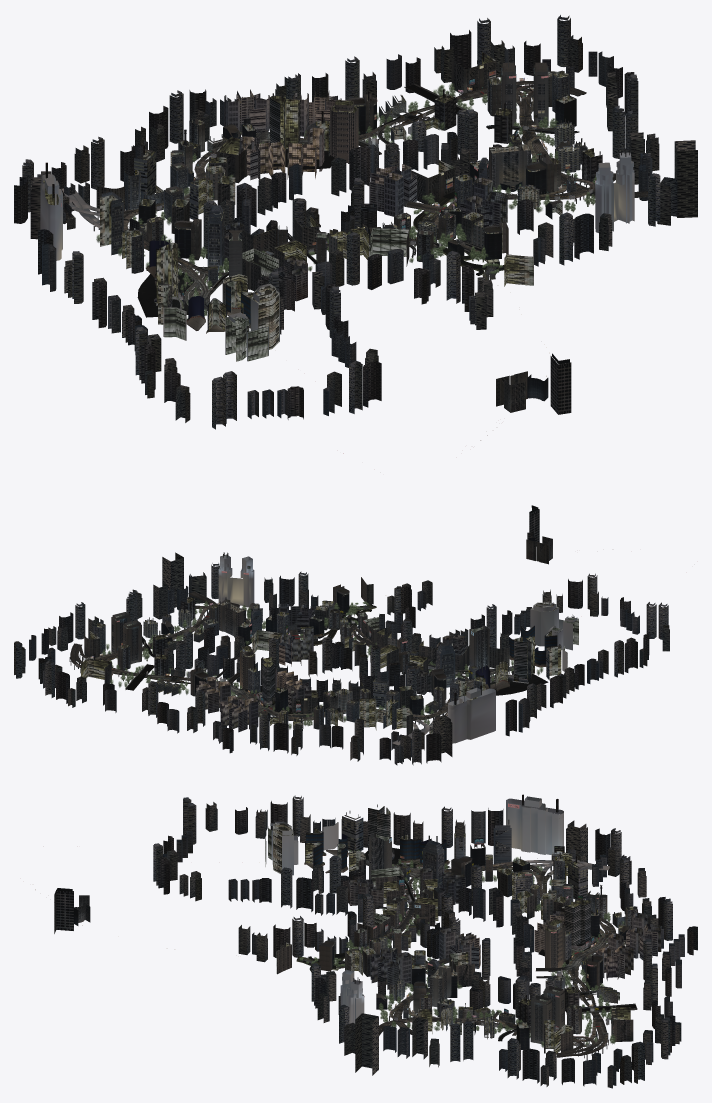
The model's file is stage_eastern_bay.glb.
The picture shows the model from 3 angles, top to bottom: view 1: azimuth 30°, elevation 25°; view 2: azimuth 150°, elevation 25°; view 3: azimuth 270°, elevation 25°; orthographic projection. The views are drawn at different scales.
Visible parts, largest first — view 1: backdrop_grp_007_mdl_005_sub_000, backdrop_grp_007_mdl_004_sub_000, backdrop_grp_006_mdl_003_sub_000, backdrop_grp_007_mdl_009_sub_000, backdrop_grp_006_mdl_007_sub_000, backdrop_grp_014_mdl_000_sub_000, backdrop_grp_006_mdl_006_sub_000, backdrop_grp_006_mdl_002_sub_000, backdrop_grp_006_mdl_011_sub_000, backdrop_grp_006_mdl_005_sub_000, backdrop_grp_018_mdl_000_sub_000, backdrop_grp_005_mdl_001_sub_000 (+40 smaller); view 2: backdrop_grp_007_mdl_004_sub_000, backdrop_grp_009_mdl_000_sub_000, backdrop_grp_006_mdl_003_sub_000, backdrop_grp_005_mdl_000_sub_000, backdrop_grp_007_mdl_009_sub_000, backdrop_grp_007_mdl_000_sub_000, backdrop_grp_006_mdl_010_sub_000, backdrop_grp_007_mdl_005_sub_000, backdrop_grp_006_mdl_007_sub_000, backdrop_grp_006_mdl_000_sub_000, backdrop_grp_006_mdl_009_sub_000, backdrop_grp_015_mdl_000_sub_000 (+32 smaller); view 3: backdrop_grp_006_mdl_003_sub_000, backdrop_grp_009_mdl_000_sub_000, backdrop_grp_007_mdl_004_sub_000, backdrop_grp_007_mdl_003_sub_000, backdrop_grp_006_mdl_000_sub_000, backdrop_grp_005_mdl_000_sub_000, backdrop_grp_007_mdl_009_sub_000, backdrop_grp_006_mdl_002_sub_000, backdrop_grp_006_mdl_007_sub_000, backdrop_grp_007_mdl_005_sub_000, backdrop_grp_007_mdl_001_sub_000, backdrop_grp_006_mdl_008_sub_000 (+37 smaller).
Part boxes in pixels (x1,y1,x2,y2): backdrop_grp_007_mdl_005_sub_000: (247,349,381,419); backdrop_grp_007_mdl_004_sub_000: (14,136,104,239); backdrop_grp_006_mdl_003_sub_000: (629,134,697,226); backdrop_grp_007_mdl_009_sub_000: (135,327,236,429); backdrop_grp_006_mdl_007_sub_000: (351,121,470,186); backdrop_grp_014_mdl_000_sub_000: (164,284,279,361); backdrop_grp_006_mdl_006_sub_000: (517,199,612,266); backdrop_grp_006_mdl_002_sub_000: (468,15,597,87); backdrop_grp_006_mdl_011_sub_000: (329,232,439,304); backdrop_grp_006_mdl_005_sub_000: (345,33,467,100); backdrop_grp_018_mdl_000_sub_000: (496,353,571,414); backdrop_grp_005_mdl_001_sub_000: (238,127,324,180); backdrop_grp_007_mdl_004_sub_000: (350,715,452,765); backdrop_grp_009_mdl_000_sub_000: (448,687,495,743); backdrop_grp_006_mdl_003_sub_000: (159,552,219,619); backdrop_grp_005_mdl_000_sub_000: (196,676,258,732); backdrop_grp_007_mdl_009_sub_000: (614,602,669,677); backdrop_grp_007_mdl_000_sub_000: (250,714,343,755); backdrop_grp_006_mdl_010_sub_000: (308,636,380,682); backdrop_grp_007_mdl_005_sub_000: (543,573,639,634); backdrop_grp_006_mdl_007_sub_000: (194,635,278,685); backdrop_grp_006_mdl_000_sub_000: (29,602,103,660); backdrop_grp_006_mdl_009_sub_000: (157,690,233,753); backdrop_grp_015_mdl_000_sub_000: (530,599,577,671); backdrop_grp_006_mdl_003_sub_000: (339,1004,427,1075); backdrop_grp_009_mdl_000_sub_000: (506,796,563,855); backdrop_grp_007_mdl_004_sub_000: (566,820,646,898); backdrop_grp_007_mdl_003_sub_000: (287,855,365,922); backdrop_grp_006_mdl_000_sub_000: (499,1038,596,1086); backdrop_grp_005_mdl_000_sub_000: (595,912,661,980); backdrop_grp_007_mdl_009_sub_000: (183,795,303,844); backdrop_grp_006_mdl_002_sub_000: (592,1017,671,1088); backdrop_grp_006_mdl_007_sub_000: (471,938,554,1009); backdrop_grp_007_mdl_005_sub_000: (153,830,201,896); backdrop_grp_007_mdl_001_sub_000: (434,864,503,927); backdrop_grp_006_mdl_008_sub_000: (238,916,329,962).
Size of the model in its own units: 34.34 by 4.36 by 38.05.
100 materials, 99 textured.
